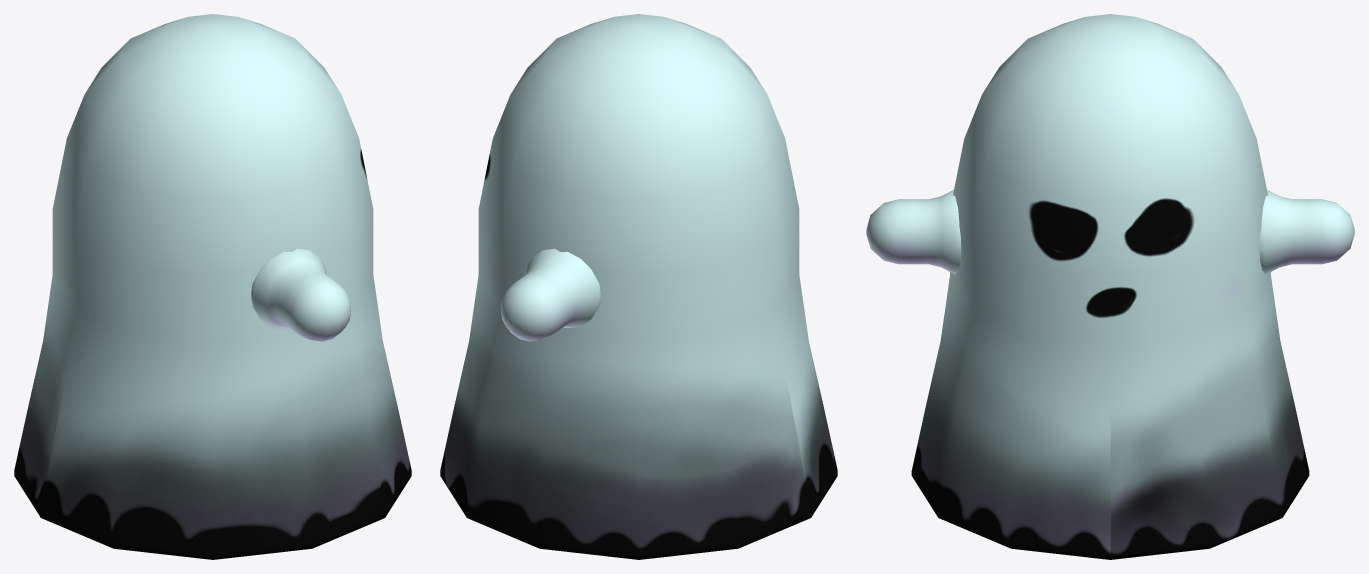
Rendered from ghost2.obj.
3 views of the same model, side by side, from view 1: azimuth 30°, elevation 25°; view 2: azimuth 150°, elevation 25°; view 3: azimuth 270°, elevation 25° (orthographic).
Visible parts, largest first — view 1: low_Sphere.002; view 2: low_Sphere.002; view 3: low_Sphere.002.
Boxes of the visible parts, bbox=[...] form: low_Sphere.002: bbox=[14, 14, 411, 559]; low_Sphere.002: bbox=[440, 14, 837, 559]; low_Sphere.002: bbox=[866, 14, 1354, 559].
Size of the model in its own units: 2.44 by 3.13 by 3.
Materials: 1 (1 with a texture image).
